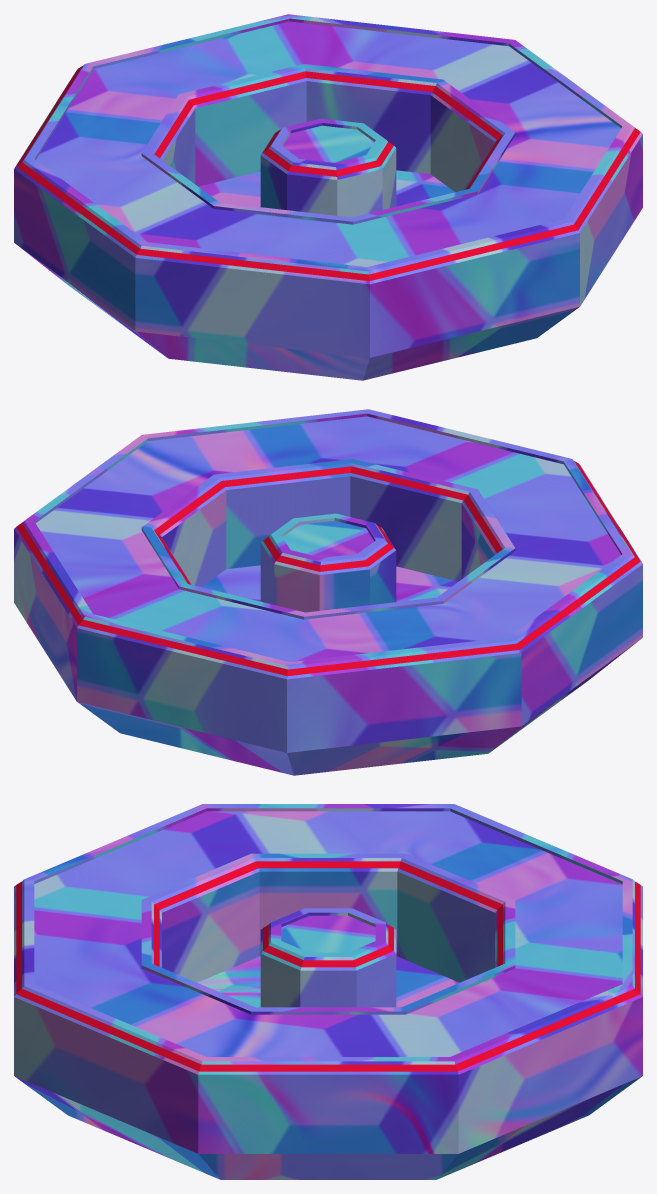
File: level.fbx
3 views of the same model, one above another, from view 1: azimuth 30°, elevation 25°; view 2: azimuth 150°, elevation 25°; view 3: azimuth 270°, elevation 25° (orthographic). The views are drawn at different scales.
Parts seen in each view (by area): view 1: Level; view 2: Level; view 3: Level.
Boxes of the visible parts, x1,y1,x2,y2 form: Level: (14,14,642,380); Level: (14,409,642,775); Level: (14,804,642,1179).
Size of the model in its own units: 924 by 222 by 924.
